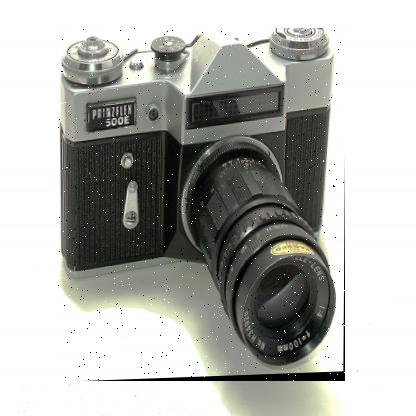Camera: (59, 29, 347, 383)
